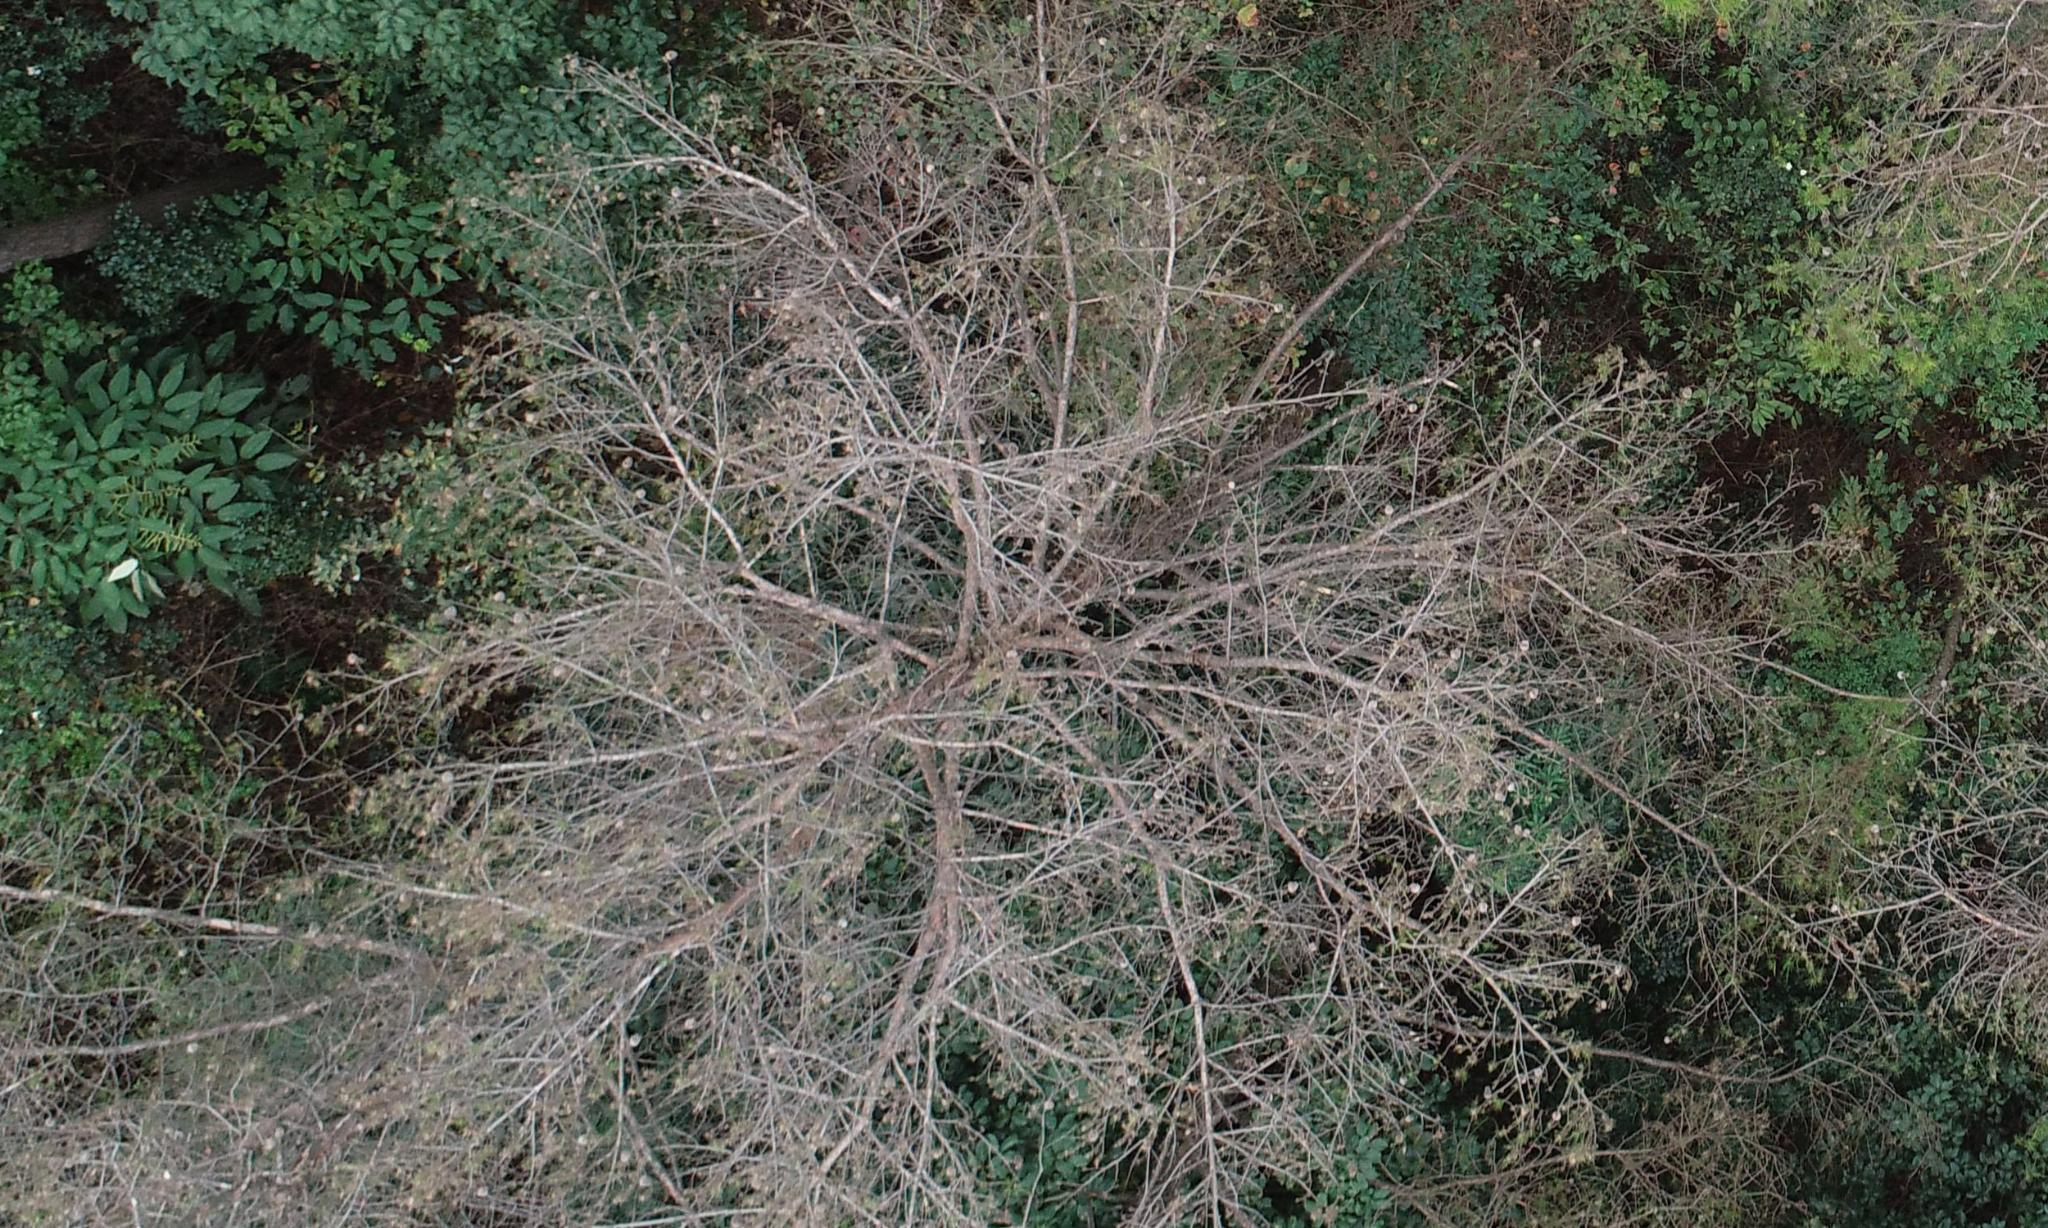dead: (212, 26, 1954, 1228)
